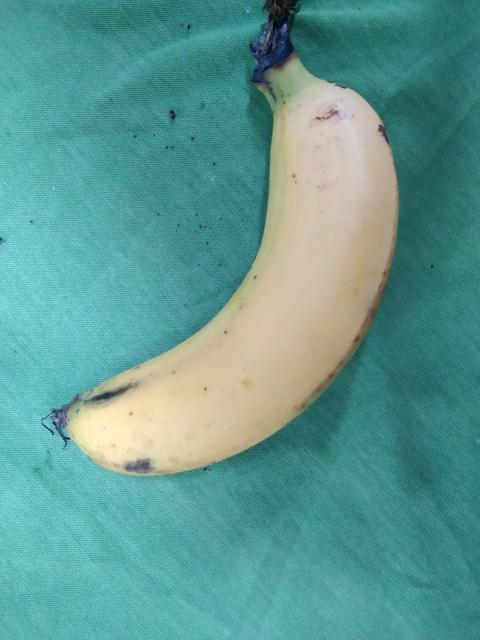freshripe: (48, 80, 412, 478)
